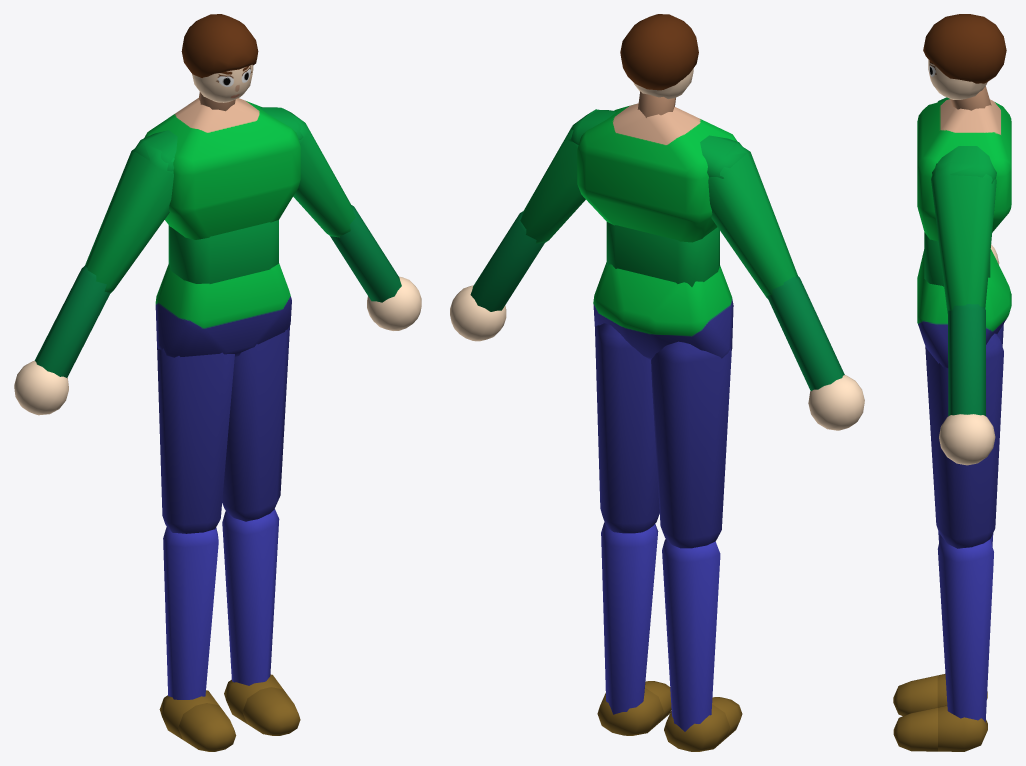
Rendered from LastLuna_Model_Player.fbx.
The picture shows the model from 3 angles, left to right: view 1: azimuth 30°, elevation 25°; view 2: azimuth 150°, elevation 25°; view 3: azimuth 270°, elevation 25°; orthographic projection. The views are drawn at different scales.
Parts seen in each view (by area): view 1: Chest, R_Thigh, Palvis, L_Thigh, L_Calf, R_Calf, R_UpperArm, Waist, R_ForeArm, Hair, L_UpperArm, L_ForeArm (+8 smaller); view 2: Chest, R_Thigh, L_Thigh, Palvis, R_Calf, L_Calf, R_UpperArm, Waist, Hair, R_ForeArm, L_UpperArm, L_ForeArm (+6 smaller); view 3: L_Thigh, L_Calf, L_UpperArm, Chest, Hair, L_ForeArm, Palvis, L_Hand, L_Foot, L_Toe, R_Toe, Shoulder (+4 smaller).
Boxes of the visible parts, bbox=[...] form: Chest: bbox=[144, 98, 300, 239]; R_Thigh: bbox=[157, 347, 234, 533]; Palvis: bbox=[155, 263, 291, 357]; L_Thigh: bbox=[222, 326, 289, 521]; L_Calf: bbox=[222, 509, 279, 685]; R_Calf: bbox=[163, 526, 218, 699]; R_UpperArm: bbox=[85, 143, 174, 293]; Waist: bbox=[168, 220, 278, 283]; R_ForeArm: bbox=[34, 265, 110, 377]; Hair: bbox=[181, 14, 258, 77]; L_UpperArm: bbox=[285, 110, 355, 237]; L_ForeArm: bbox=[330, 205, 401, 302]; Chest: bbox=[577, 103, 737, 242]; R_Thigh: bbox=[651, 341, 731, 548]; L_Thigh: bbox=[595, 323, 659, 533]; Palvis: bbox=[593, 262, 733, 359]; R_Calf: bbox=[662, 539, 720, 731]; L_Calf: bbox=[601, 522, 658, 714]; R_UpperArm: bbox=[708, 143, 797, 298]; Waist: bbox=[606, 222, 719, 286]; Hair: bbox=[620, 14, 698, 90]; R_ForeArm: bbox=[767, 275, 844, 390]; L_UpperArm: bbox=[520, 109, 598, 243]; L_ForeArm: bbox=[470, 211, 544, 311]; L_Thigh: bbox=[925, 333, 1003, 548]; L_Calf: bbox=[937, 536, 993, 722]; L_UpperArm: bbox=[931, 162, 996, 313]; Chest: bbox=[917, 99, 1011, 241]; Hair: bbox=[923, 14, 1006, 83]; L_ForeArm: bbox=[948, 304, 985, 416]; Palvis: bbox=[917, 249, 1011, 367]; L_Hand: bbox=[939, 414, 995, 465]; L_Foot: bbox=[938, 705, 987, 751]; L_Toe: bbox=[893, 707, 937, 751]; R_Toe: bbox=[893, 675, 937, 715]; Shoulder: bbox=[932, 97, 996, 183].
Bounding box in the file's own units: 44.72 × 75.51 × 11.33.
